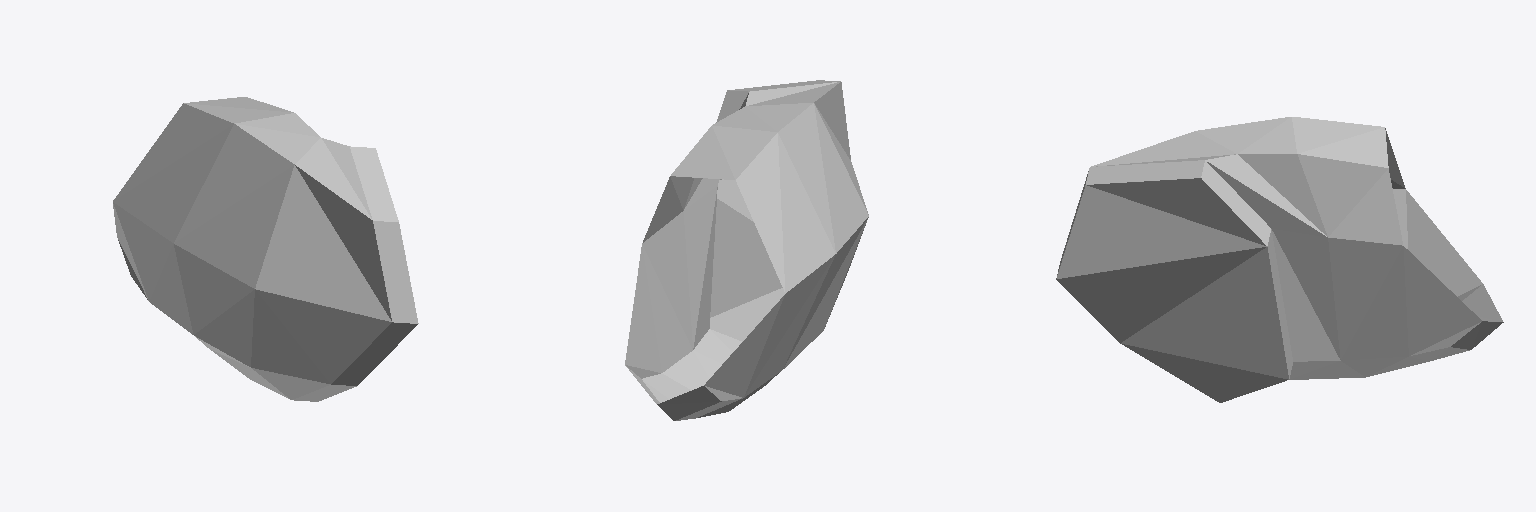
Rendered from patte_ar_d_1.obj.
3 renders of one model, left to right at view 1: azimuth 30°, elevation 25°; view 2: azimuth 150°, elevation 25°; view 3: azimuth 270°, elevation 25°, orthographic.
Parts seen in each view (by area): view 1: Wolf.007_Wolf.017; view 2: Wolf.007_Wolf.017; view 3: Wolf.007_Wolf.017.
Part boxes in pixels (bbox=[...]): Wolf.007_Wolf.017: bbox=[113, 97, 418, 401]; Wolf.007_Wolf.017: bbox=[625, 80, 868, 420]; Wolf.007_Wolf.017: bbox=[1056, 117, 1503, 402].
Size of the model in its own units: 10.53 by 16.5 by 25.37.